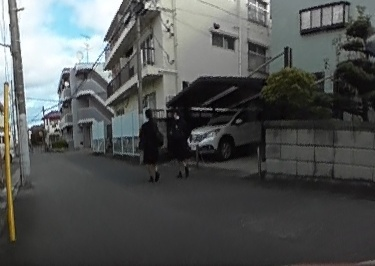person: (138, 106, 166, 180), (171, 111, 195, 178)
